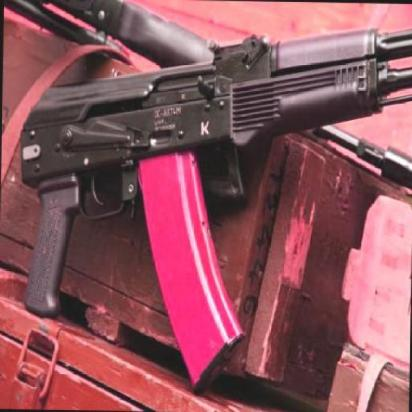Gun: (11, 14, 412, 339)
